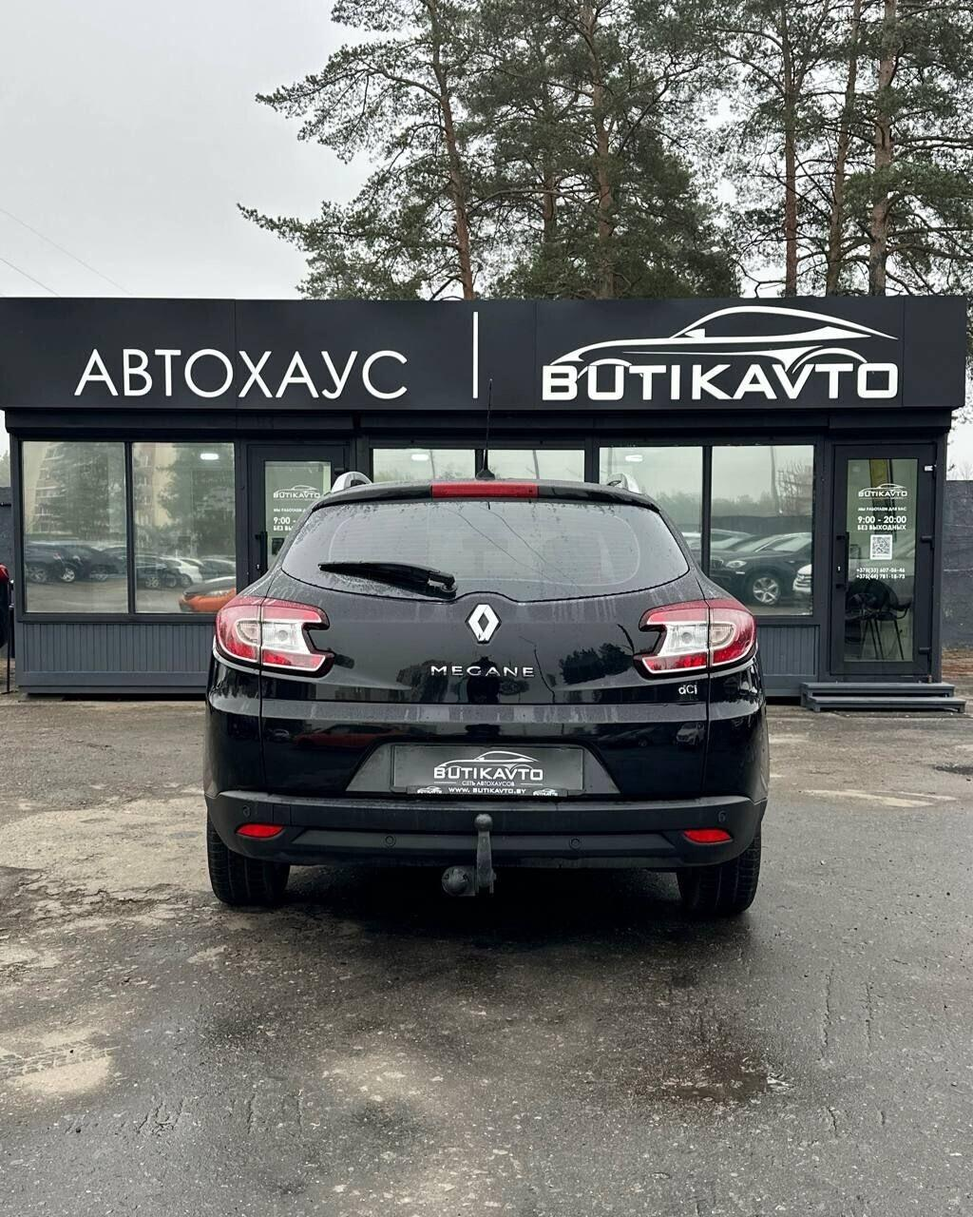Megane_2012-2014: (207, 475, 787, 940)
